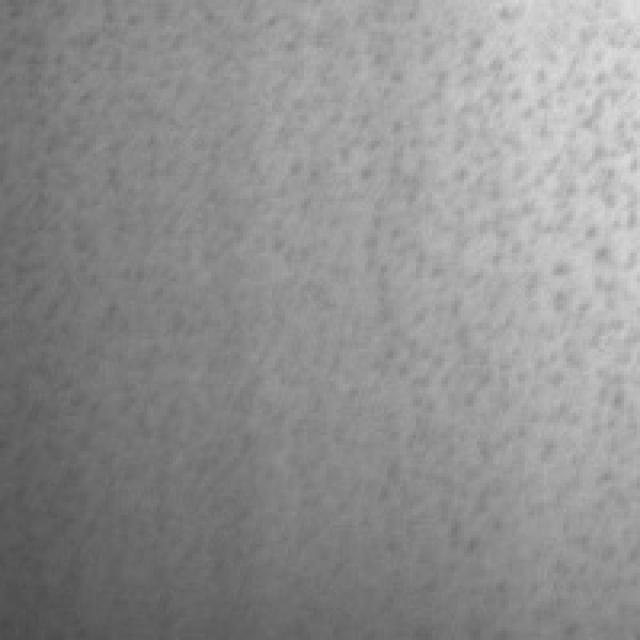pitted_surface: (6, 0, 640, 627)
